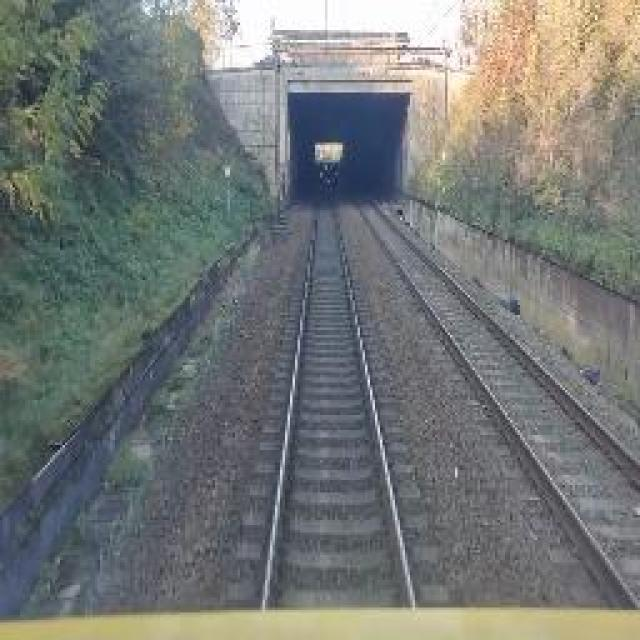rail: (212, 182, 457, 614)
